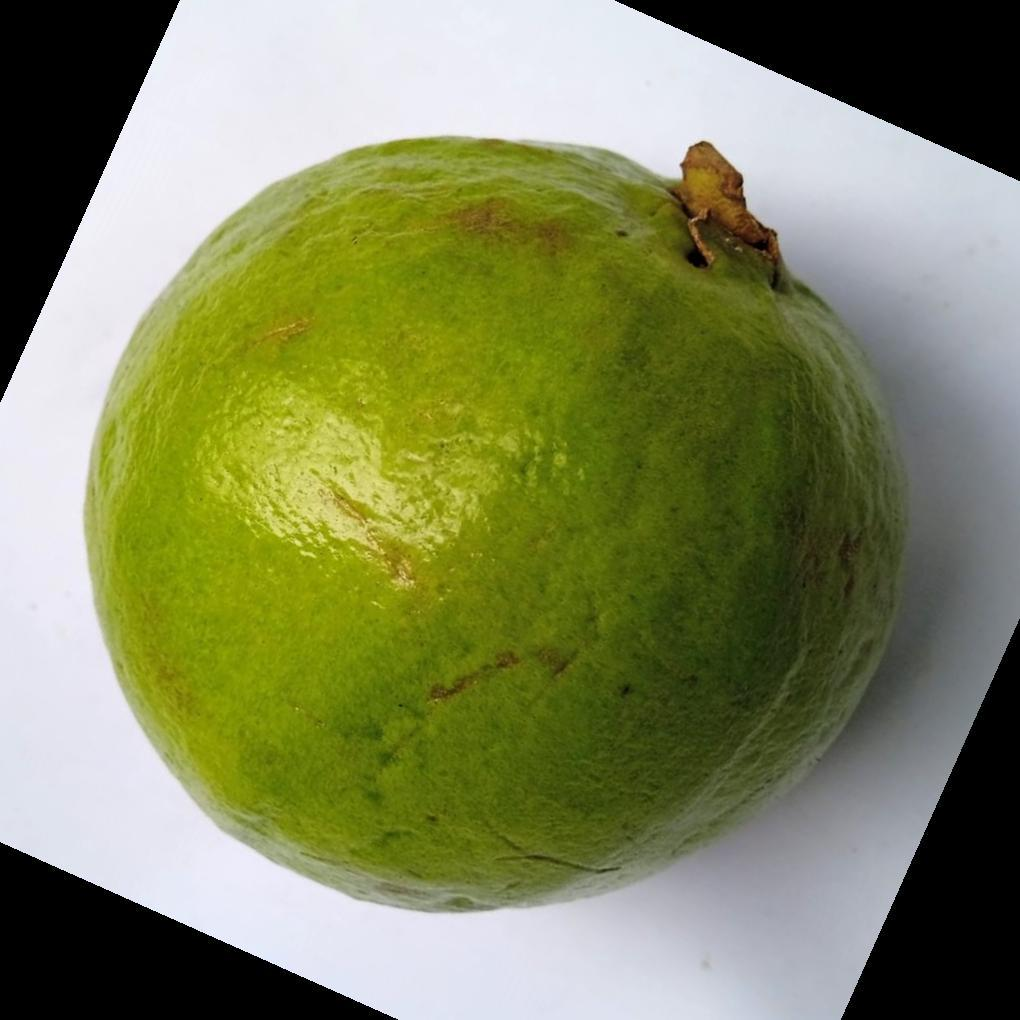FreshGuava: (80, 135, 911, 920)
